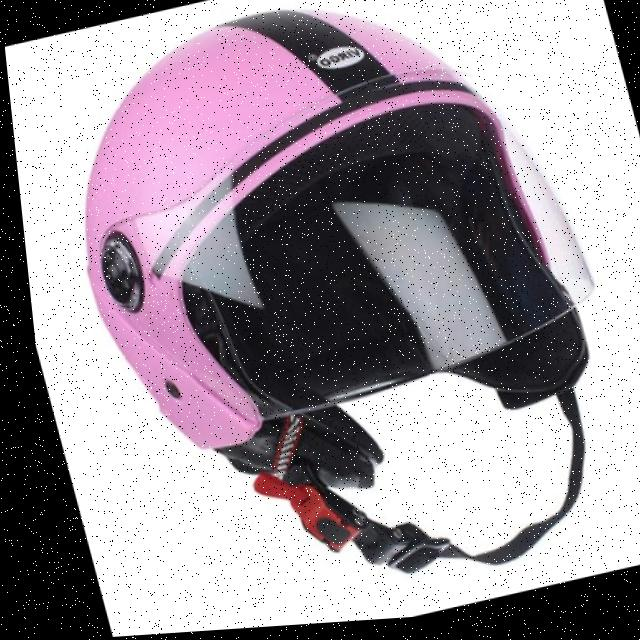helmet: (19, 0, 640, 639)
